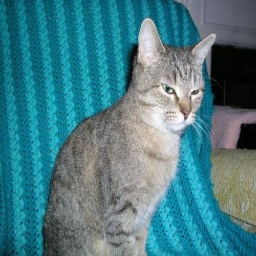cat: (41, 13, 218, 256)
